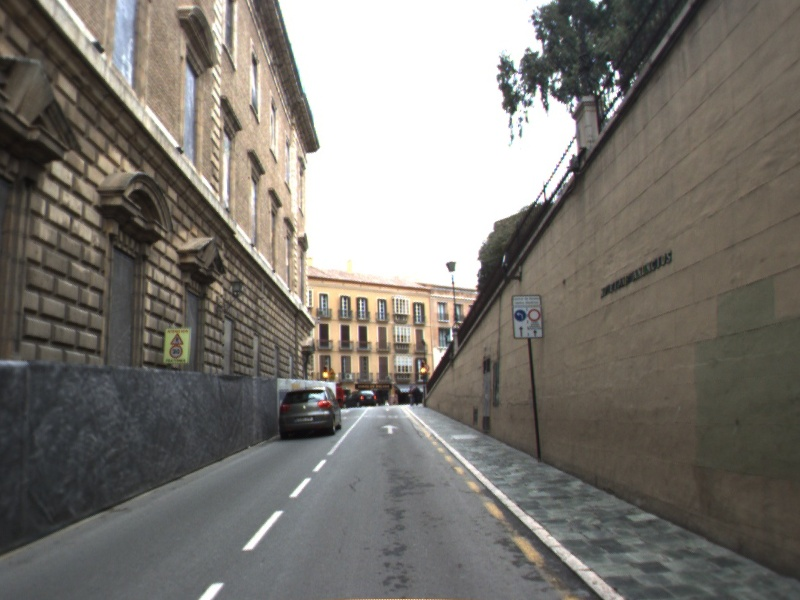STRAIGHT: (379, 422, 401, 436)
